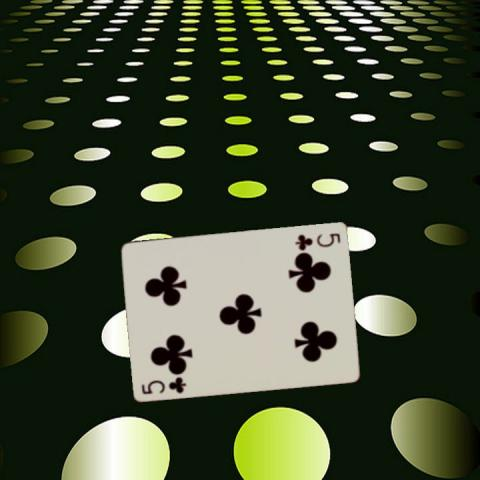5c: (139, 374, 188, 396), (293, 230, 342, 250)
